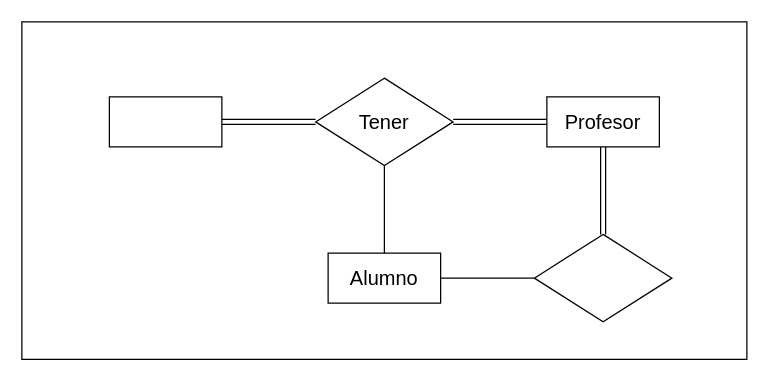
Image size: 769x381. Some labels were removed from this diagram. The centre of each missing label's shape, as x and y in pixels:
Materia: [165,121]
Tomar: [602,277]
